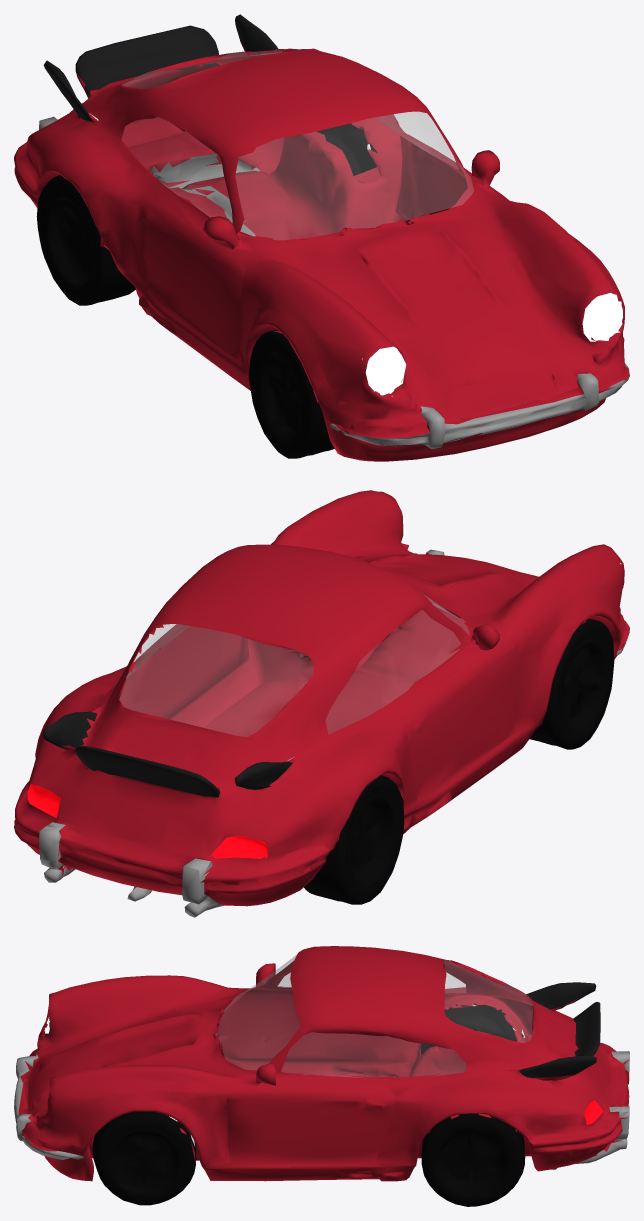
File: car_model.glb
The picture shows the model from 3 angles, top to bottom: view 1: azimuth 30°, elevation 25°; view 2: azimuth 150°, elevation 25°; view 3: azimuth 270°, elevation 25°; orthographic projection. The views are drawn at different scales.
Visible parts, largest first — view 1: body, windows_1, wheels2, metal_elements, spoiler, frontligts; view 2: body, windows_1, wheels2, spoiler, metal_elements, backlamps; view 3: body, wheels2, windows_1, spoiler, metal_elements.
Part boxes in pixels (<box>): body: <box>14,48,628,461</box>; windows_1: <box>122,49,473,239</box>; wheels2: <box>36,123,377,458</box>; metal_elements: <box>39,116,629,449</box>; spoiler: <box>43,14,278,121</box>; frontligts: <box>362,293,623,396</box>; body: <box>14,490,629,906</box>; windows_1: <box>119,594,468,736</box>; wheels2: <box>304,618,614,904</box>; spoiler: <box>43,706,294,797</box>; metal_elements: <box>39,549,629,917</box>; backlamps: <box>27,784,267,864</box>; body: <box>19,946,629,1181</box>; wheels2: <box>92,1003,525,1206</box>; windows_1: <box>215,954,534,1077</box>; spoiler: <box>510,982,600,1080</box>; metal_elements: <box>14,1051,629,1164</box>.
Size of the model in its own units: 2.72 by 1.96 by 6.
